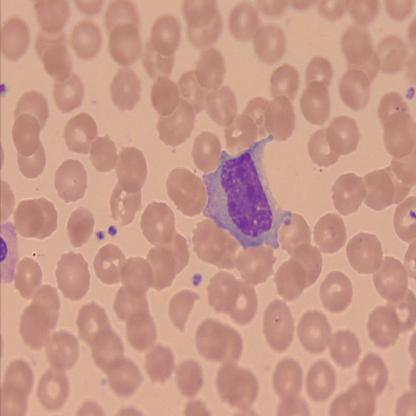Monocyte: (201, 132, 294, 252)
